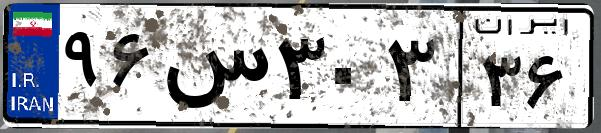0: (330, 28, 385, 110)
3: (270, 28, 330, 110), (385, 28, 445, 110), (475, 38, 525, 113)
6: (525, 38, 570, 115), (110, 28, 158, 98)
9: (57, 26, 110, 100)
س: (158, 20, 270, 120)
